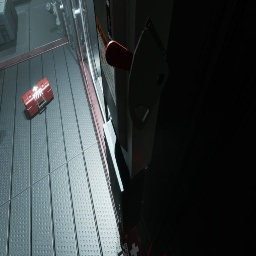0: (0, 132, 0, 134)
FirstAidBox ,: (22, 78, 54, 117), (118, 222, 142, 256)
SafetySwitchPanel ,: (94, 0, 174, 180)
